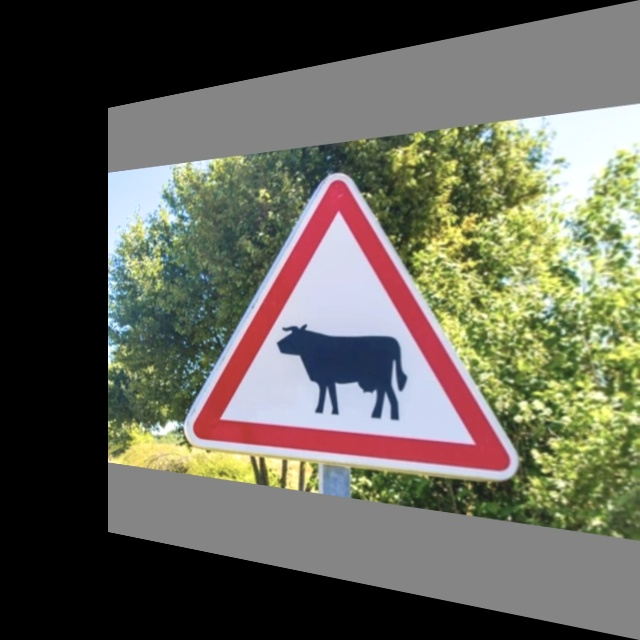Cattle: (196, 158, 533, 486)
